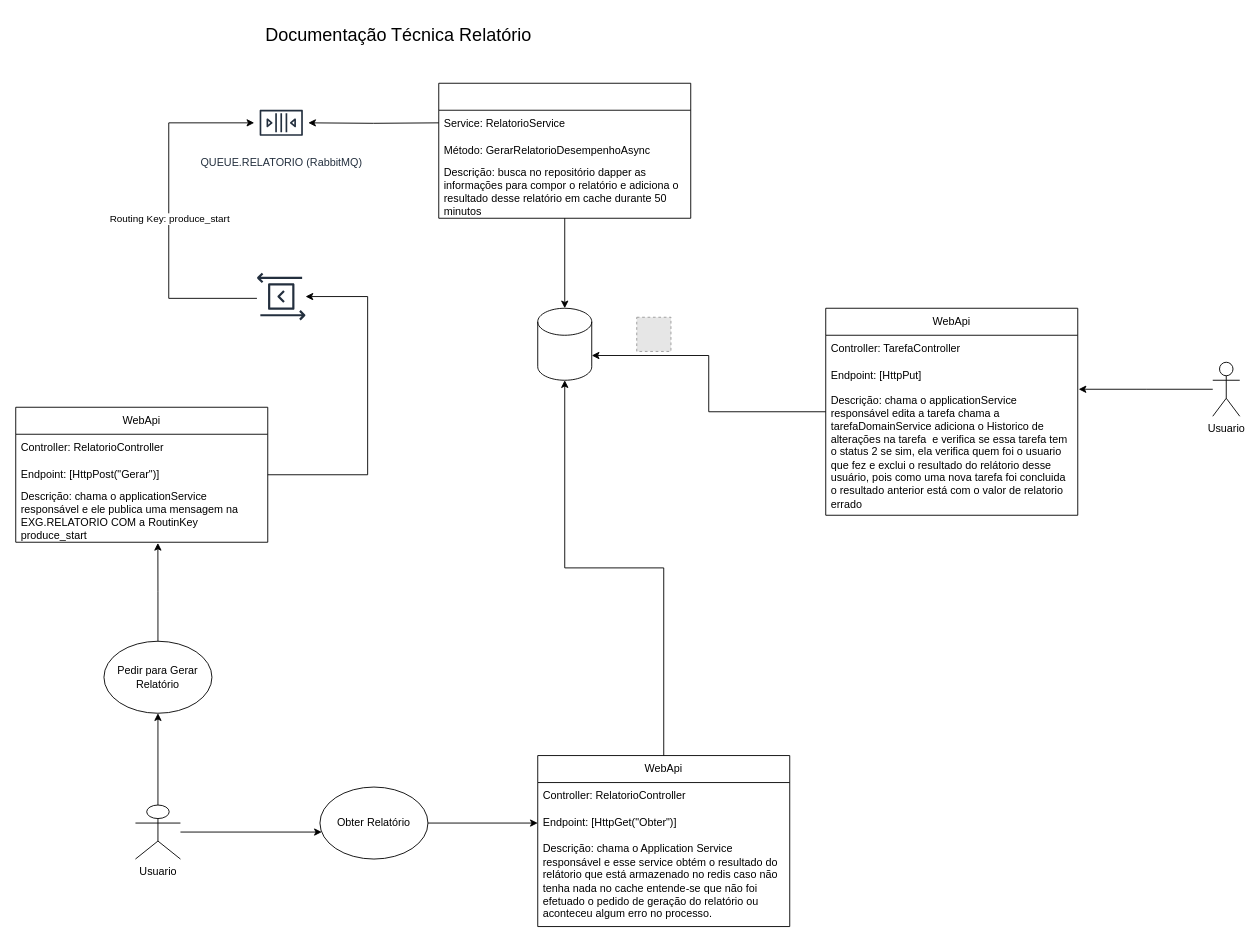
The diagram is 1260 pixels wide and 942 high, and some of its shapes have lost their labels. Grey dashed boxes stand in for pictures. The shapes that lost their labels are listed below. From the top down, each one's box as (x1, y1, x2, y2) in pixels, then its label:
(438, 82, 691, 218): ApplicationService
(256, 271, 306, 321): EXG.RELATORIO (RabbitMQ)
(537, 307, 592, 380): Redis Cache
